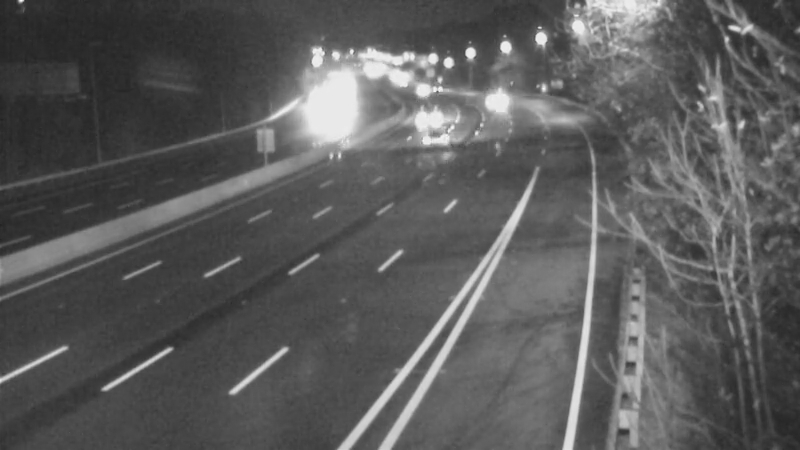vehicle: (467, 77, 517, 127), (399, 90, 449, 140), (406, 115, 456, 165), (294, 94, 344, 144)
